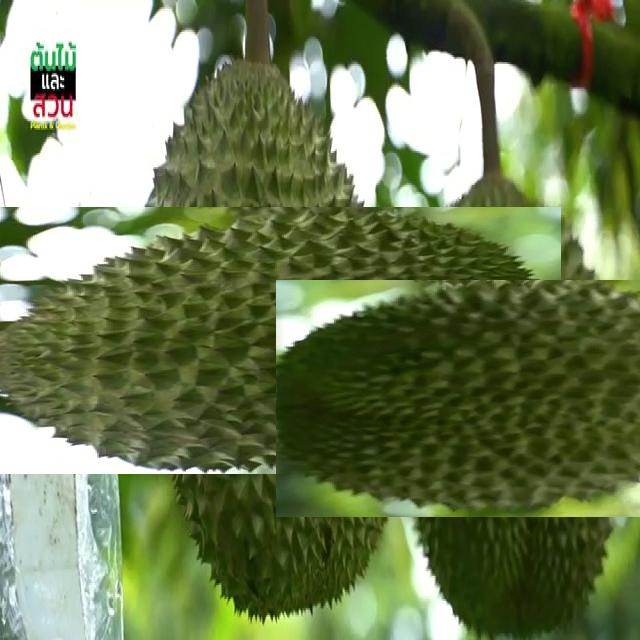durian: (57, 128, 483, 552), (333, 221, 640, 575)
